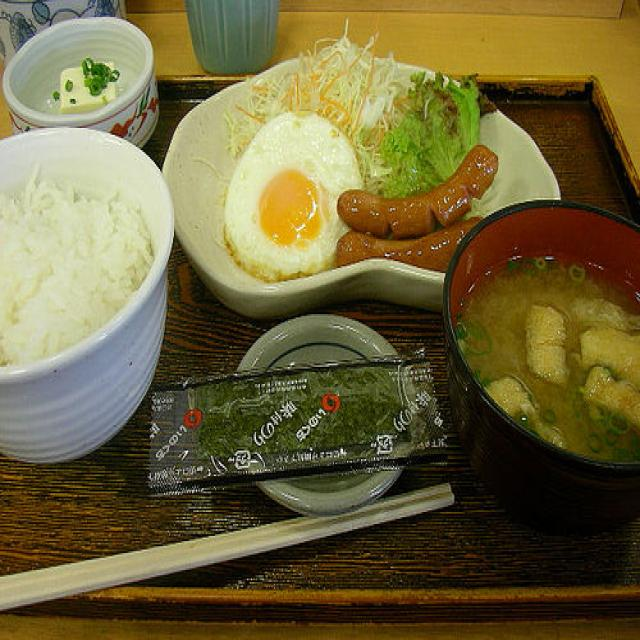汤锅炖物: (445, 230, 640, 483)
米饭主食: (0, 133, 160, 362)
